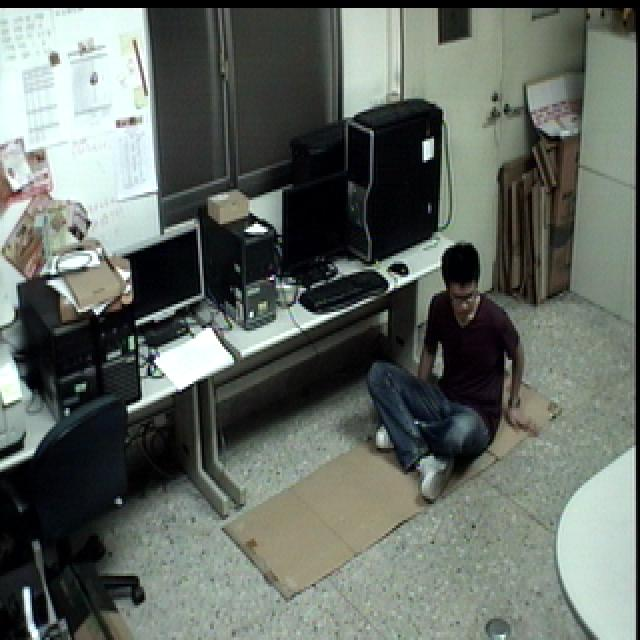sit: (359, 237, 542, 510)
